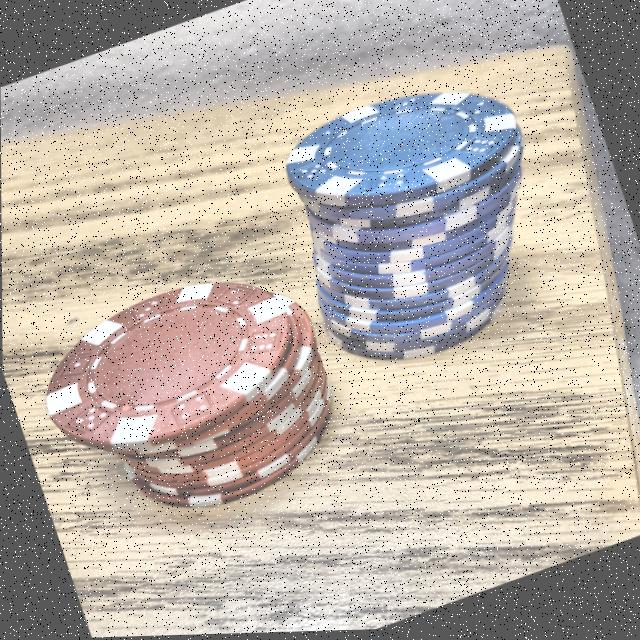Chip: (214, 34, 620, 415), (3, 219, 391, 581)
